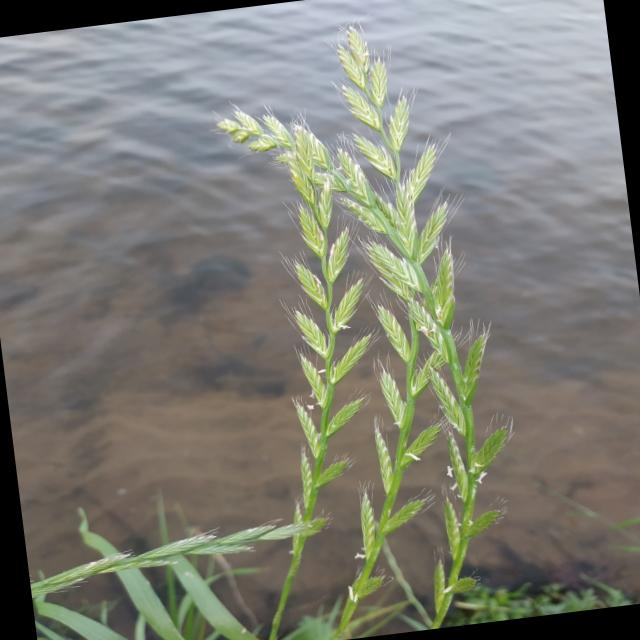Lolium: (0, 4, 540, 640), (223, 83, 471, 640)
